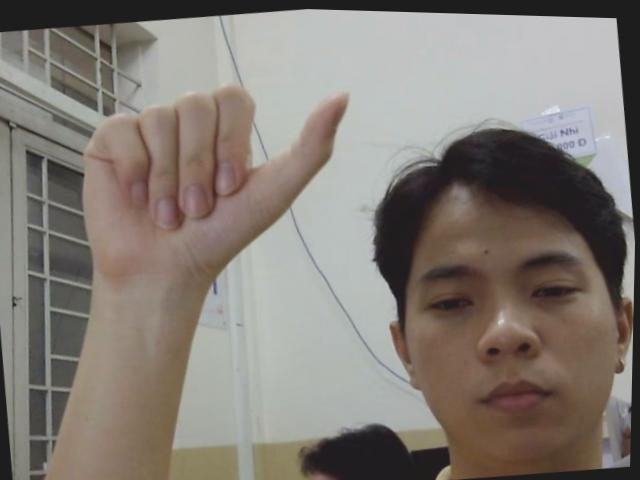A: (69, 58, 372, 269)
